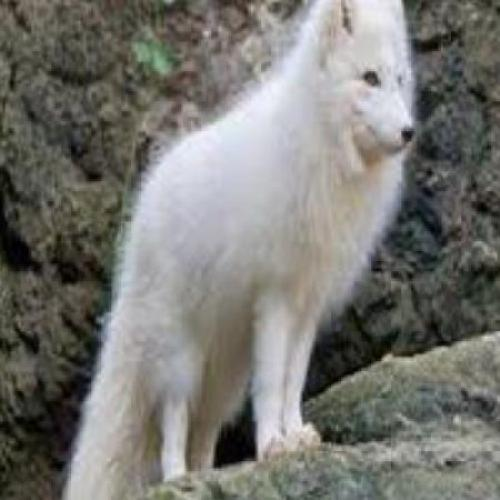arctic_fox-endangered: (64, 0, 417, 500)
